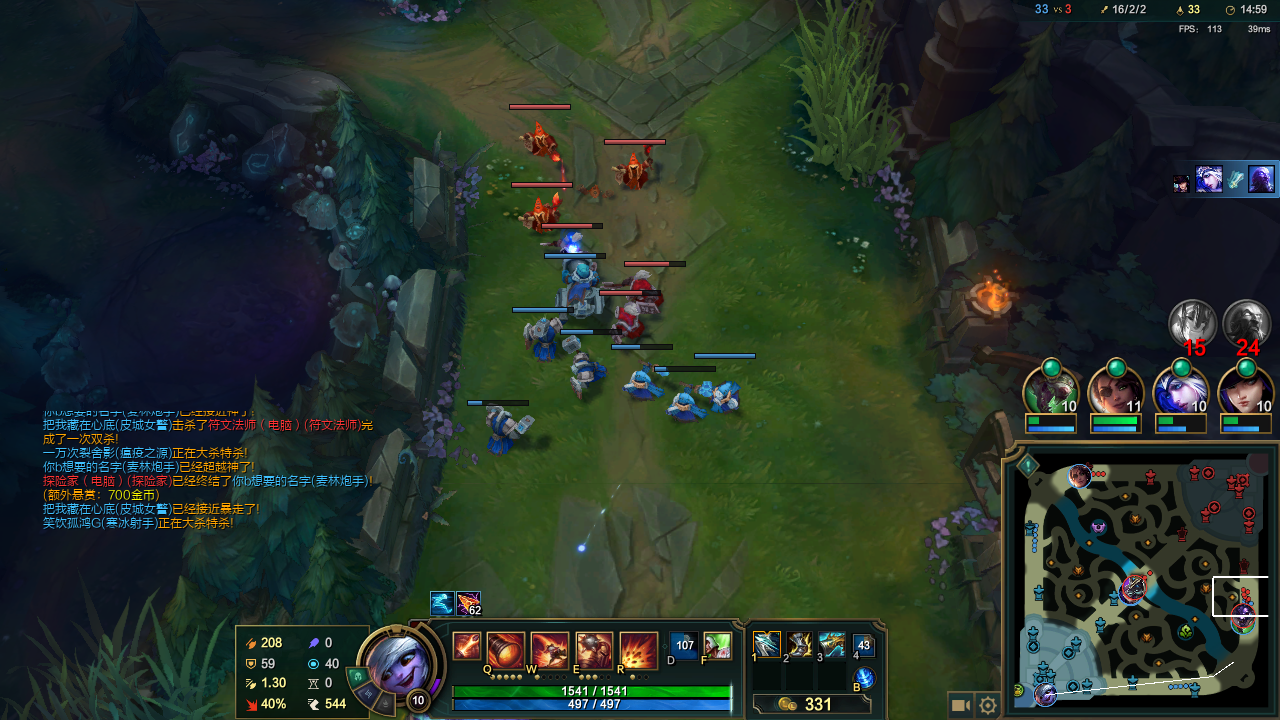DFXB: (603, 143, 670, 204), (515, 188, 583, 238), (622, 266, 676, 318), (517, 122, 578, 167), (606, 298, 647, 341)
WFXB: (549, 261, 615, 325), (475, 406, 537, 458), (688, 374, 749, 425), (561, 339, 611, 393), (521, 313, 569, 363), (616, 355, 665, 401), (661, 383, 706, 429)
